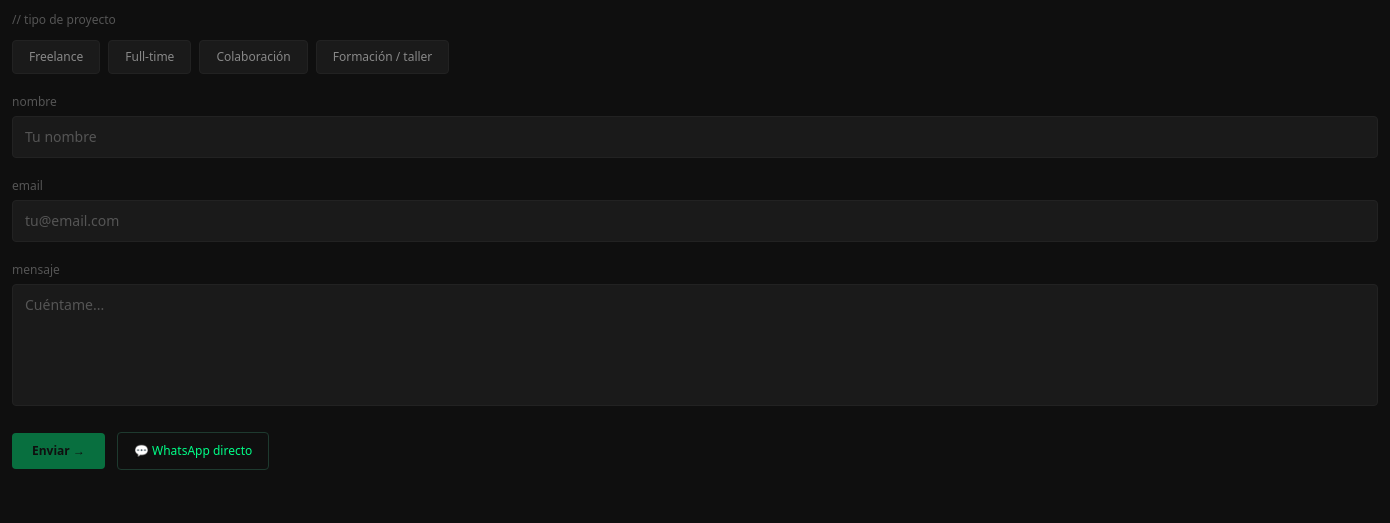
Test case: ContactForm › shows error message on API failure
The width and height of the screenshot is (1390, 523).
Click the button "Freelance" at (56, 57), box [12,40,100,74]
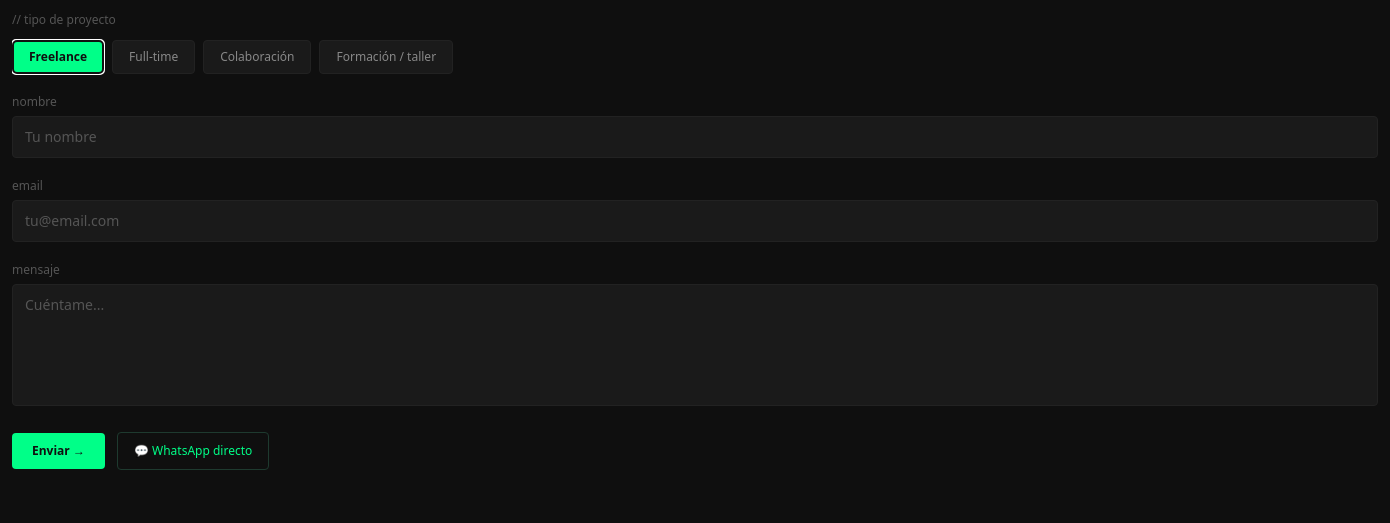
Type "Ana" into the field labelled "nombre" at (695, 137), box [12,116,1378,158]
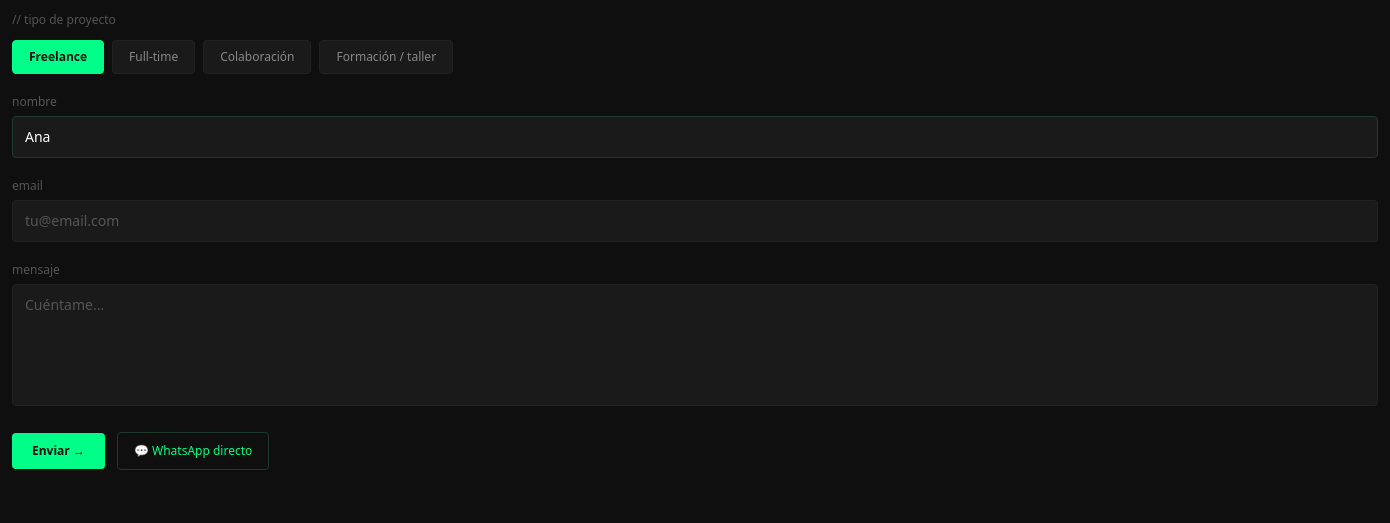
Type "ana@example.com" into the field labelled "email" at (695, 221), box [12,200,1378,242]
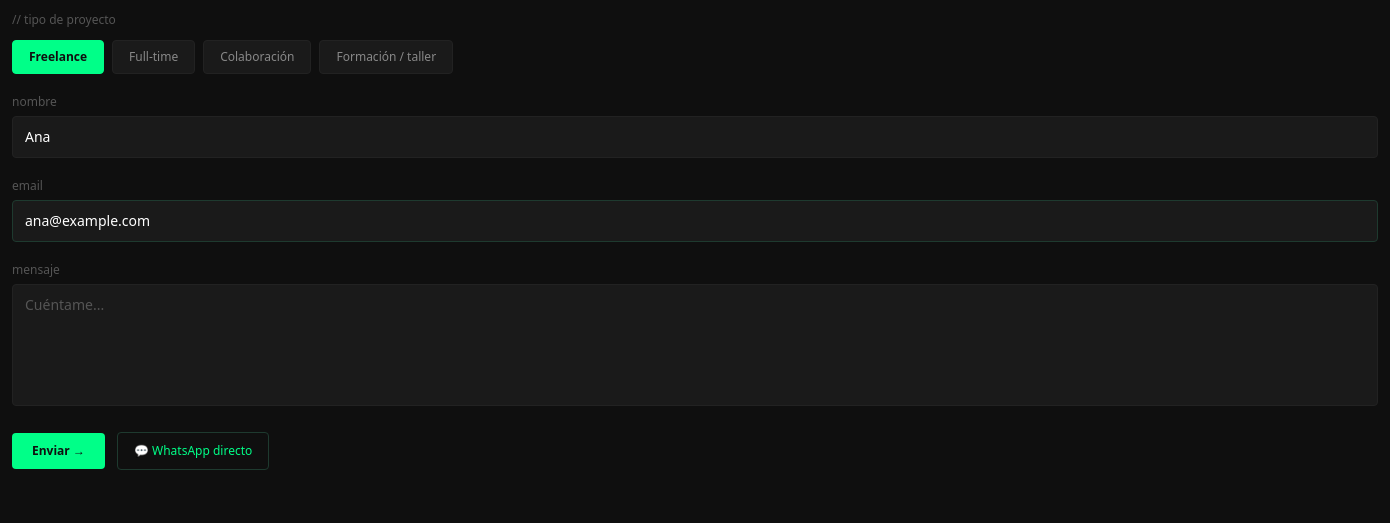
Type "Hola me gustaría trabajar contigo." into the text box labelled "mensaje" at (695, 345), box [12,284,1378,406]
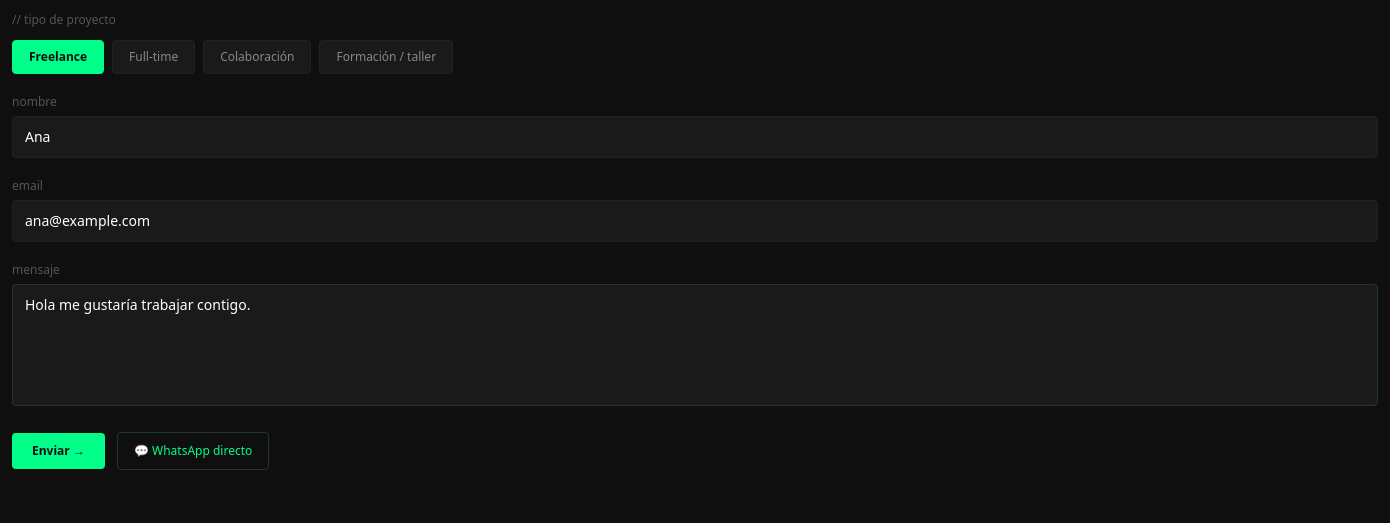
Click the button "Enviar →" at (58, 451), box [12,433,105,469]
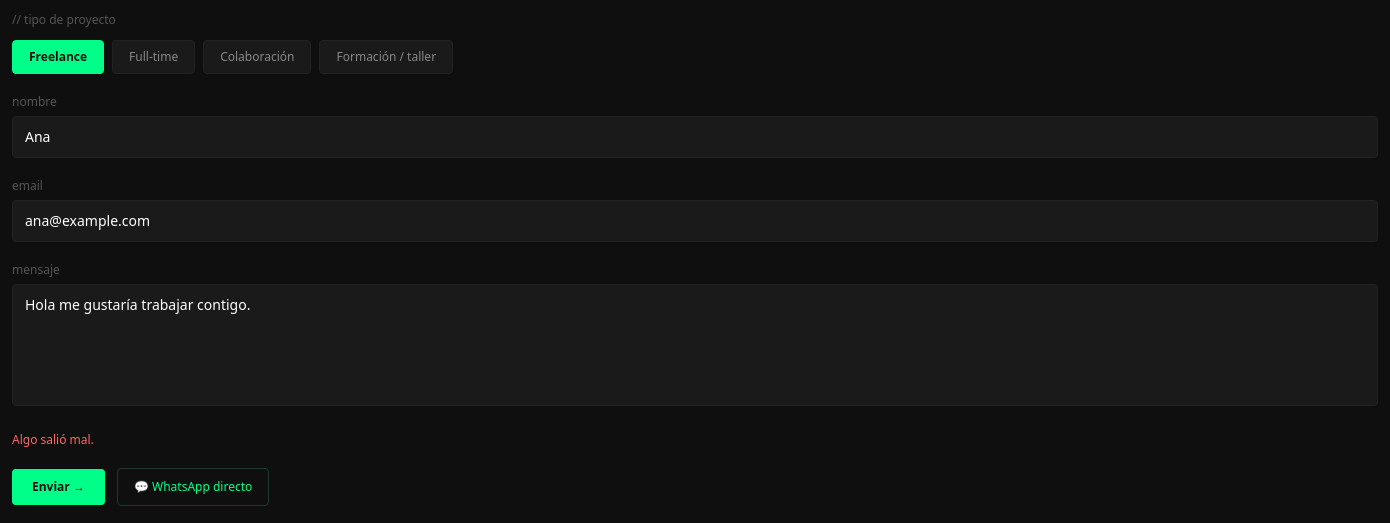
Expected: the text "Algo salió mal." is shown, [12,431,94,448]
